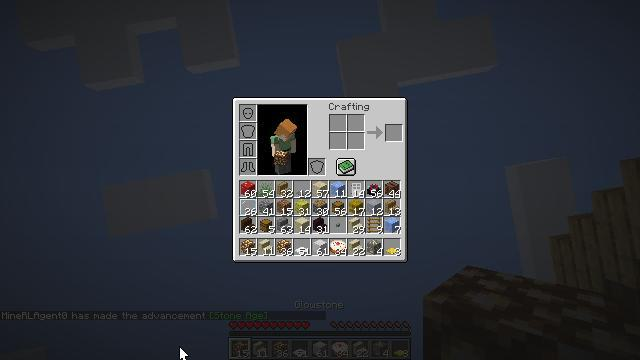cursor: (346, 179, 362, 189)
